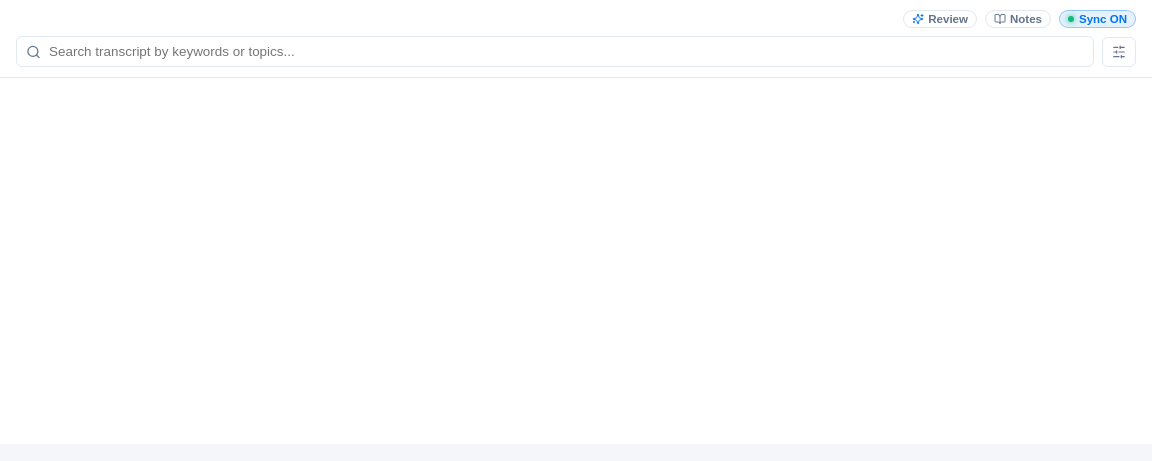
Test case: TranscriptSearch › opens Notes and Highlights drawer when Notes button is clicked
This screenshot has width=1152, height=461.
What coordinates should you click on to do the following:
click the button with aria-label "Notes and Highlights"
I would click on:
 (1018, 19)
Its box is [985,10,1051,28].
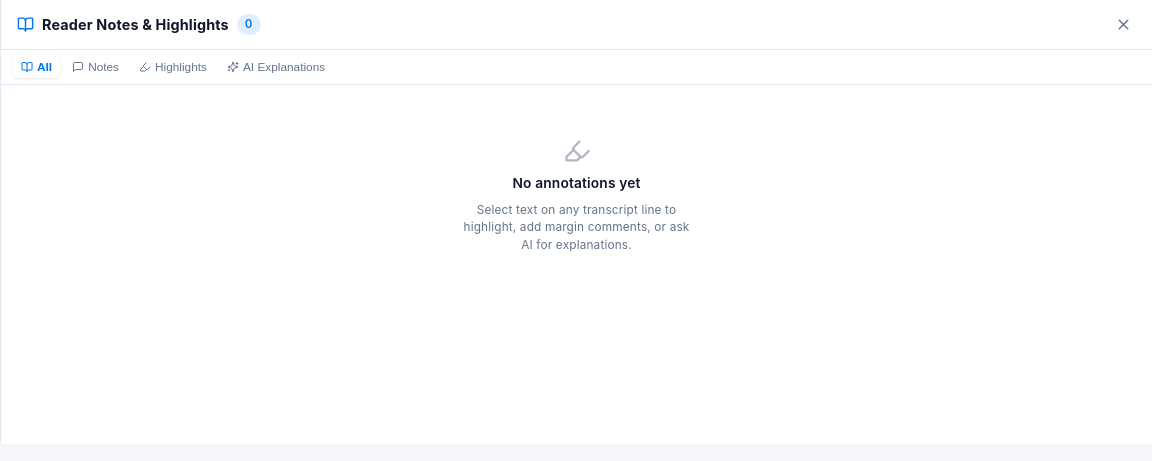
Check: the text "Reader Notes & Highlights" is shown, box [42,14,229,35]
